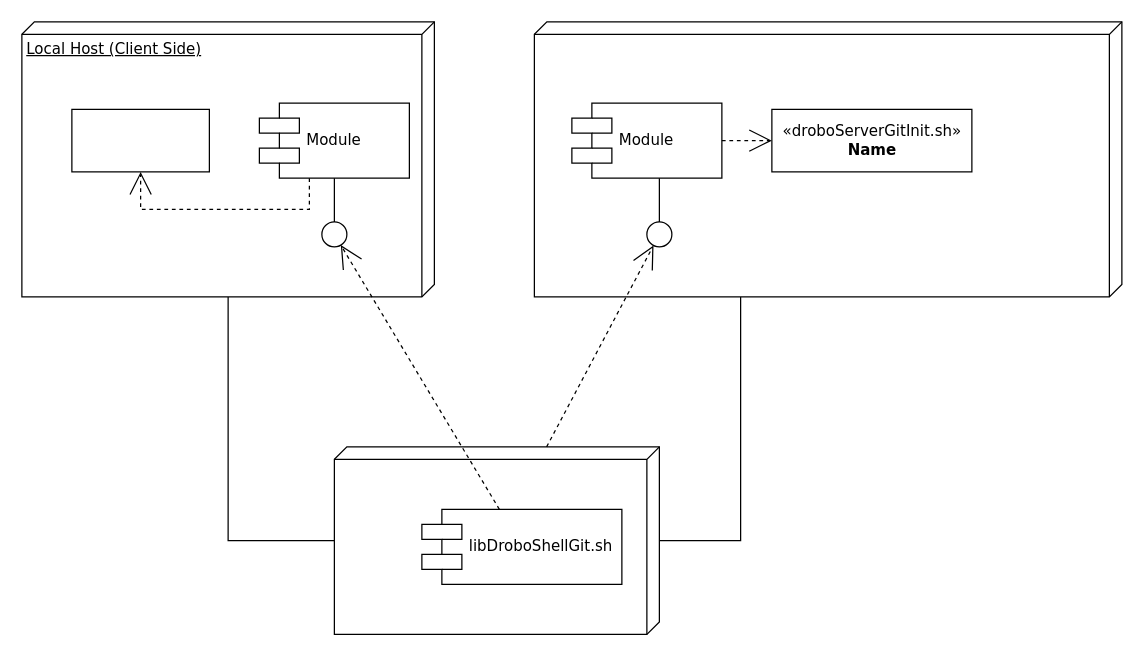
Some shapes in this 1144 by 656 pixel diagram are drawn without their labels. The shapes that lost their labels are listed below. From the top down, each one's box as (x1, y1, x2, y2) in pixels, then its label:
(71, 108, 209, 172): «droboGitInit.sh» Name
(533, 21, 1122, 297): Drobo (Server Side)
(333, 446, 659, 634): Common Library
